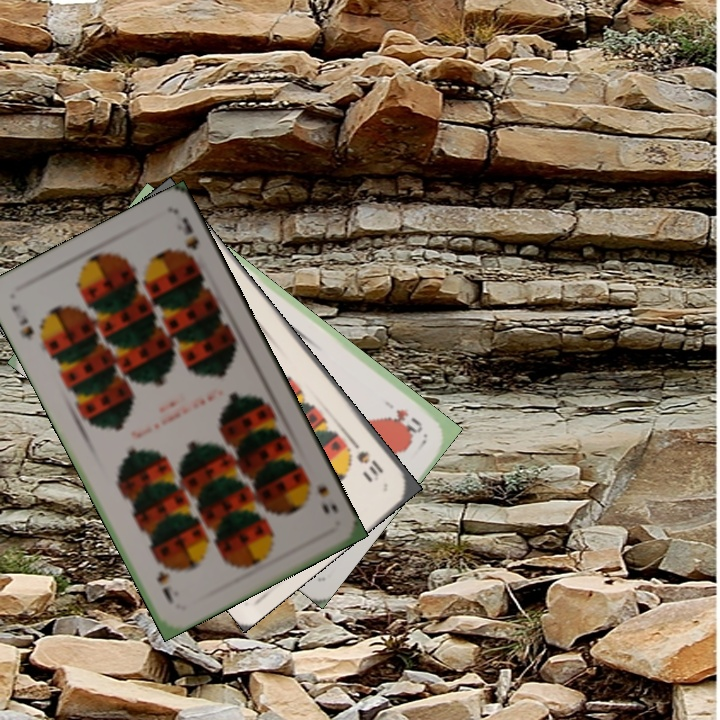HO: (391, 405, 426, 436)
S10: (346, 435, 387, 484)
S9: (7, 300, 36, 343), (312, 481, 341, 518)
